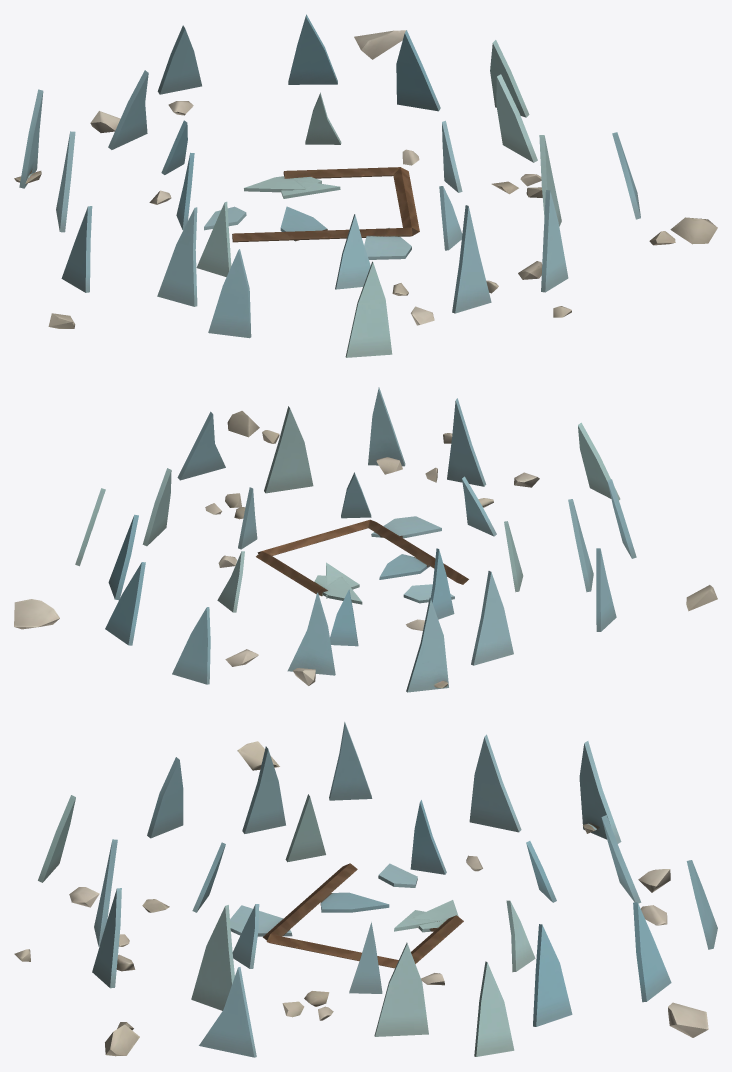
The model's file is trap-glass.hq.glb.
3 renders of one model, top to bottom at view 1: azimuth 30°, elevation 25°; view 2: azimuth 150°, elevation 25°; view 3: azimuth 270°, elevation 25°, orthographic. The views are drawn at different scales.
Visible parts, largest first — view 1: trap-glass; view 2: trap-glass; view 3: trap-glass.
Boxes of the visible parts, x1,y1,x2,y2 form: trap-glass: [14, 14, 717, 357]; trap-glass: [14, 387, 717, 692]; trap-glass: [14, 722, 717, 1057].
Bounding box in the file's own units: 1.55 × 0.2366 × 1.51.
1 material, 1 textured.
